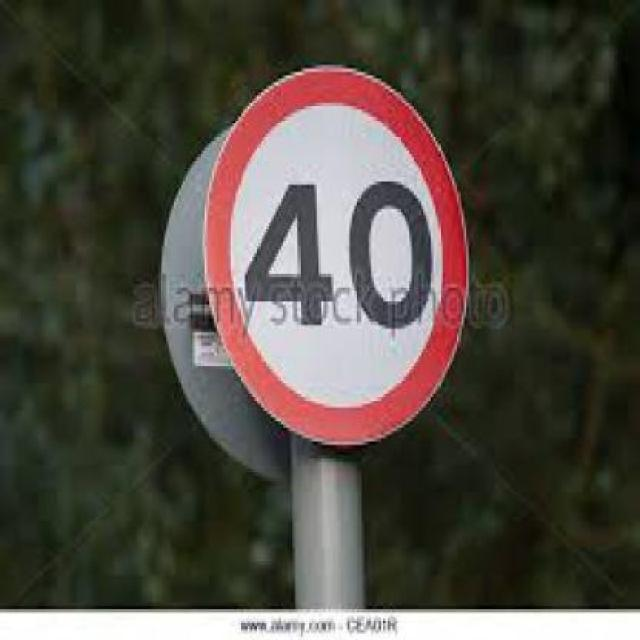forb_speed_over_40: (211, 68, 466, 439)
